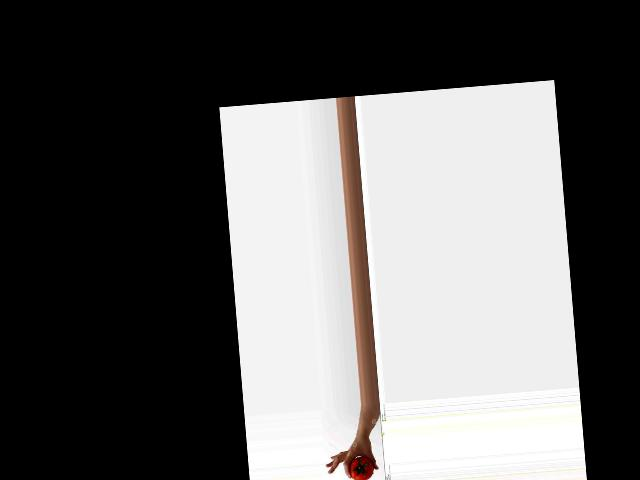tomato: (348, 455, 374, 480)
